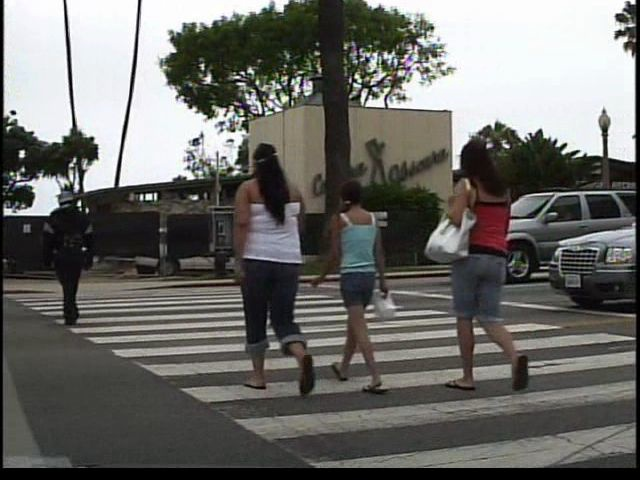person: (227, 133, 327, 406), (439, 133, 540, 401), (321, 171, 395, 396), (33, 181, 99, 332)
